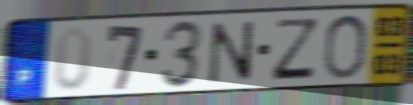0: (51, 25, 95, 93)
3: (160, 18, 204, 90)
7: (107, 23, 144, 92)
N: (207, 20, 256, 85)
O: (321, 12, 371, 82)
Z: (269, 17, 321, 83)
